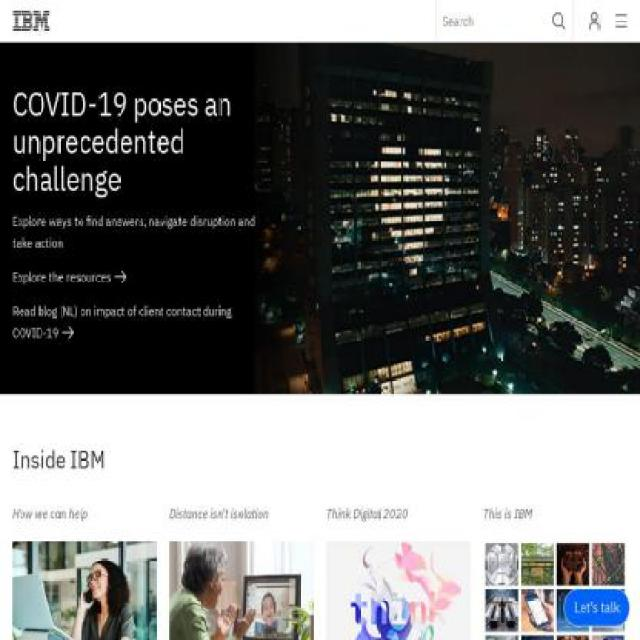button: (12, 502, 157, 640), (169, 502, 314, 640), (326, 502, 471, 640), (483, 502, 628, 640), (564, 588, 630, 627), (12, 0, 51, 42), (545, 0, 573, 42), (588, 0, 601, 42), (615, 0, 628, 42)
field: (435, 0, 574, 42)
